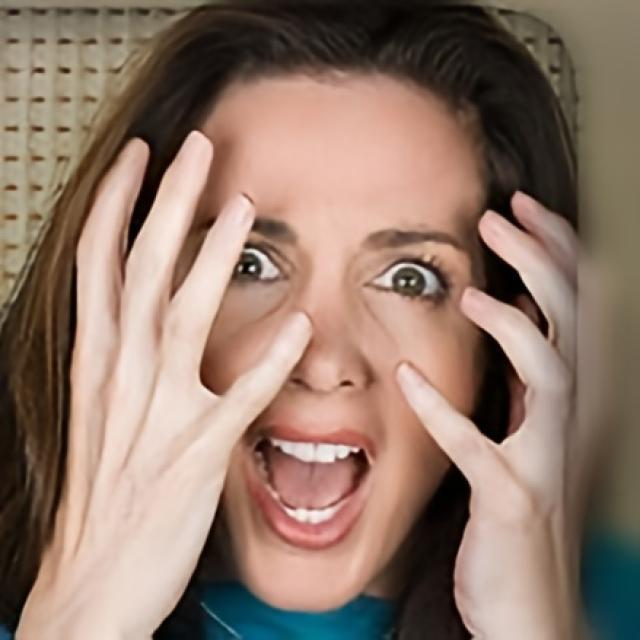fear: (164, 66, 496, 614)
